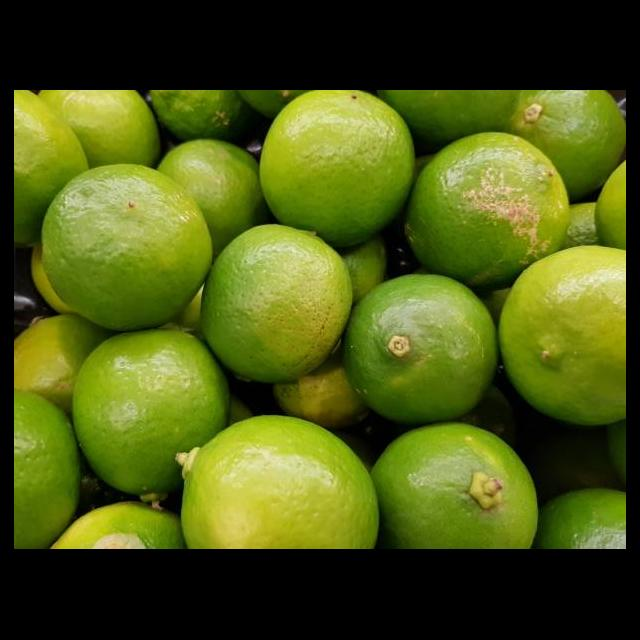lime: (40, 164, 214, 334), (179, 416, 381, 550), (402, 134, 570, 294), (255, 92, 416, 250), (201, 226, 348, 386)
